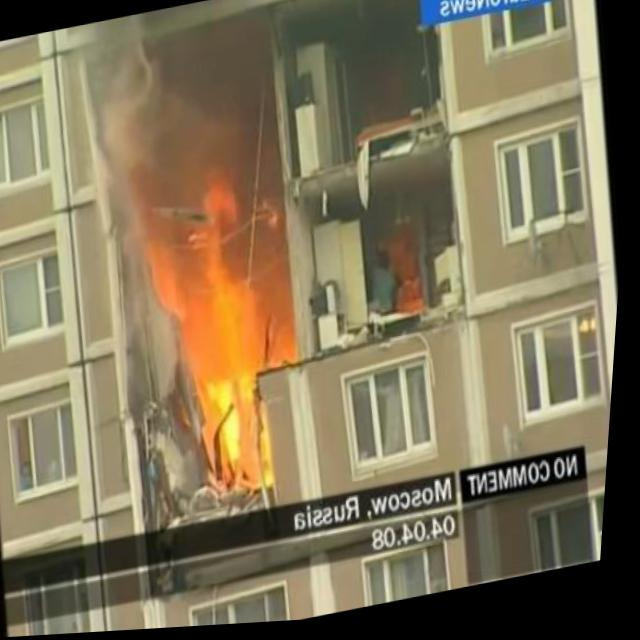fire: (151, 164, 295, 507)
